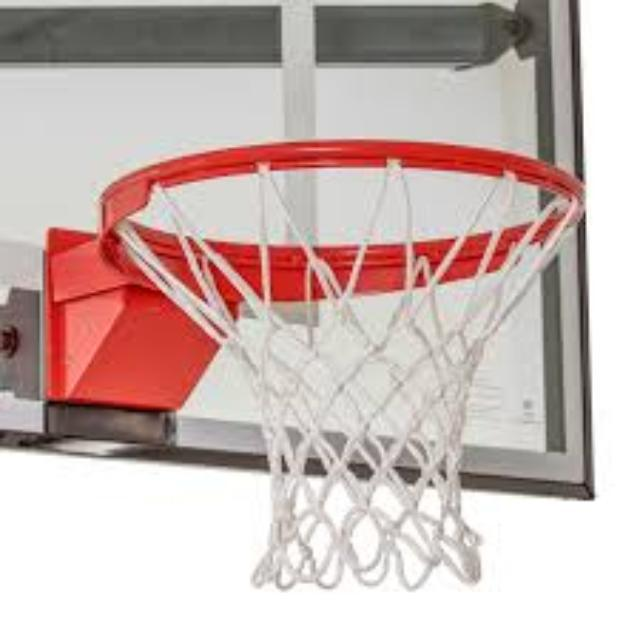rim: (97, 138, 585, 590)
